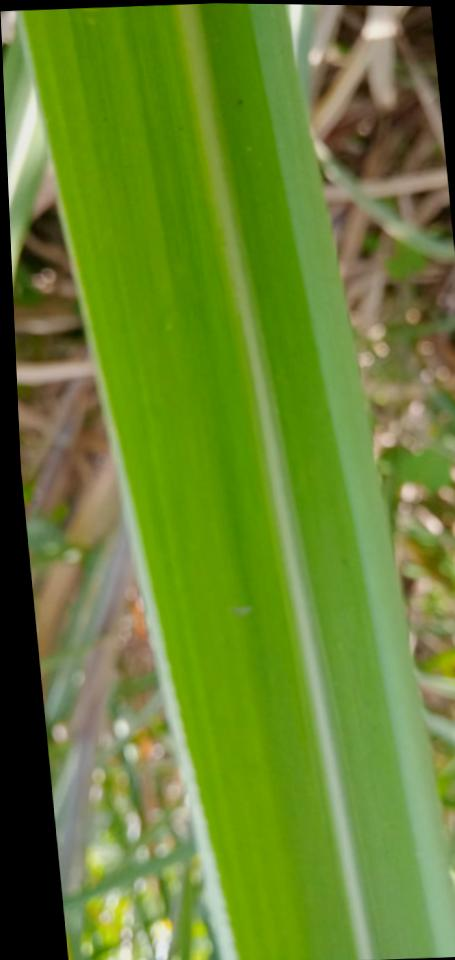Healthy: (22, 3, 455, 960)
